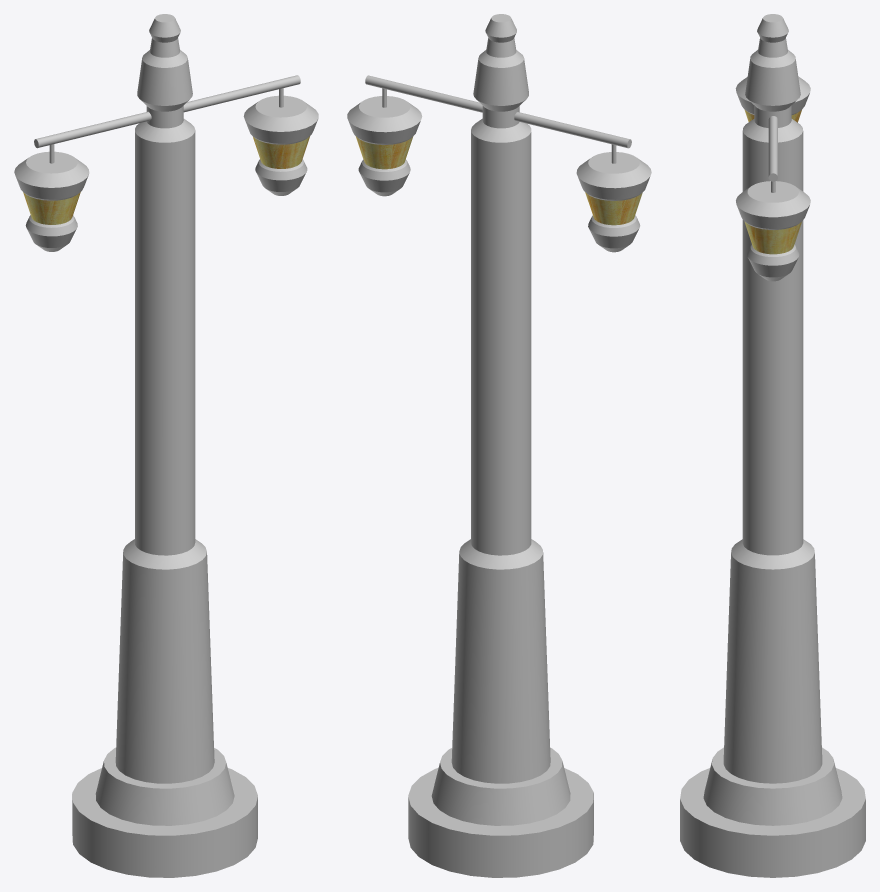
Rendered from FarolaUno.fbx.
3 renders of one model, left to right at view 1: azimuth 30°, elevation 25°; view 2: azimuth 150°, elevation 25°; view 3: azimuth 270°, elevation 25°, orthographic.
Parts seen in each view (by area): view 1: Object077; view 2: Object077; view 3: Object077.
Boxes of the visible parts, x1=… form: Object077: x1=14, y1=14, x2=318, y2=877; Object077: x1=347, y1=14, x2=651, y2=877; Object077: x1=680, y1=14, x2=865, y2=877.
Size of the model in its own units: 0.6106 by 1.63 by 0.3338.
